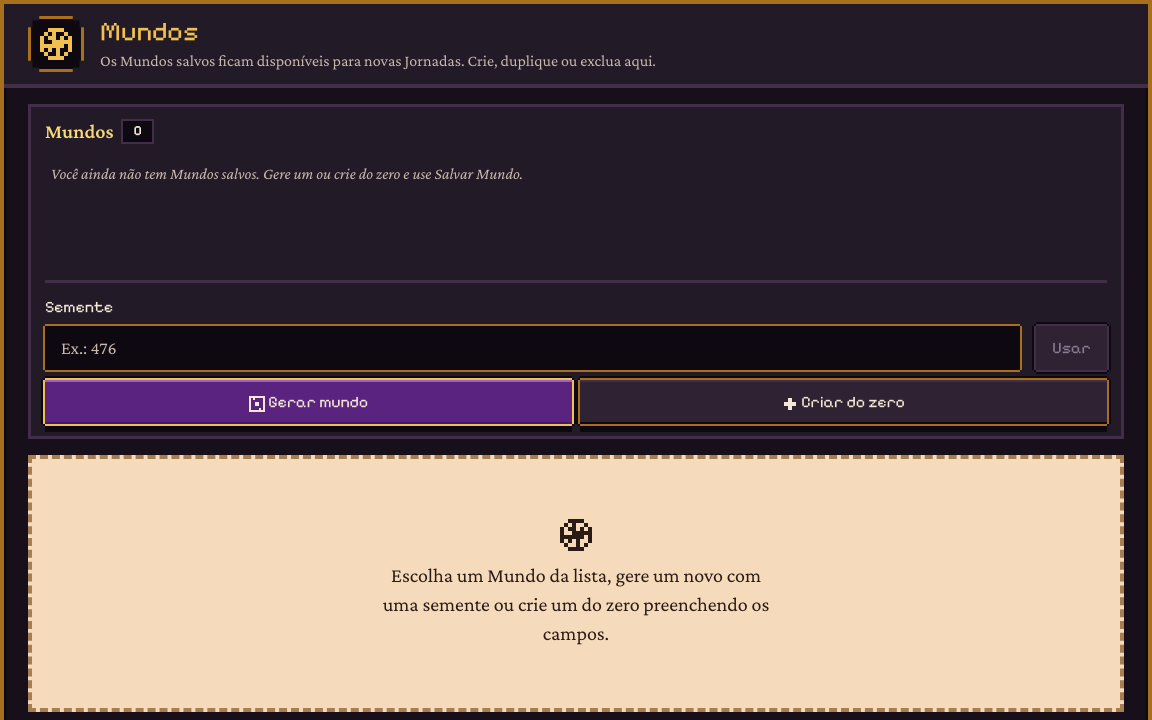
Test: Tela de Mundos (modelo provisório) › Gerar mundo e Salvar Mundo: grava com a semente e o Mundo entra na lista
The image size is (1152, 720).
Expected: the text "Você ainda não tem Mundos salvos" is shown, [51, 165, 523, 182]
What coordinates should you click on to do the following:
click the button "Gerar mundo"
I would click on:
 (308, 402)
Its box is [45, 380, 572, 424].
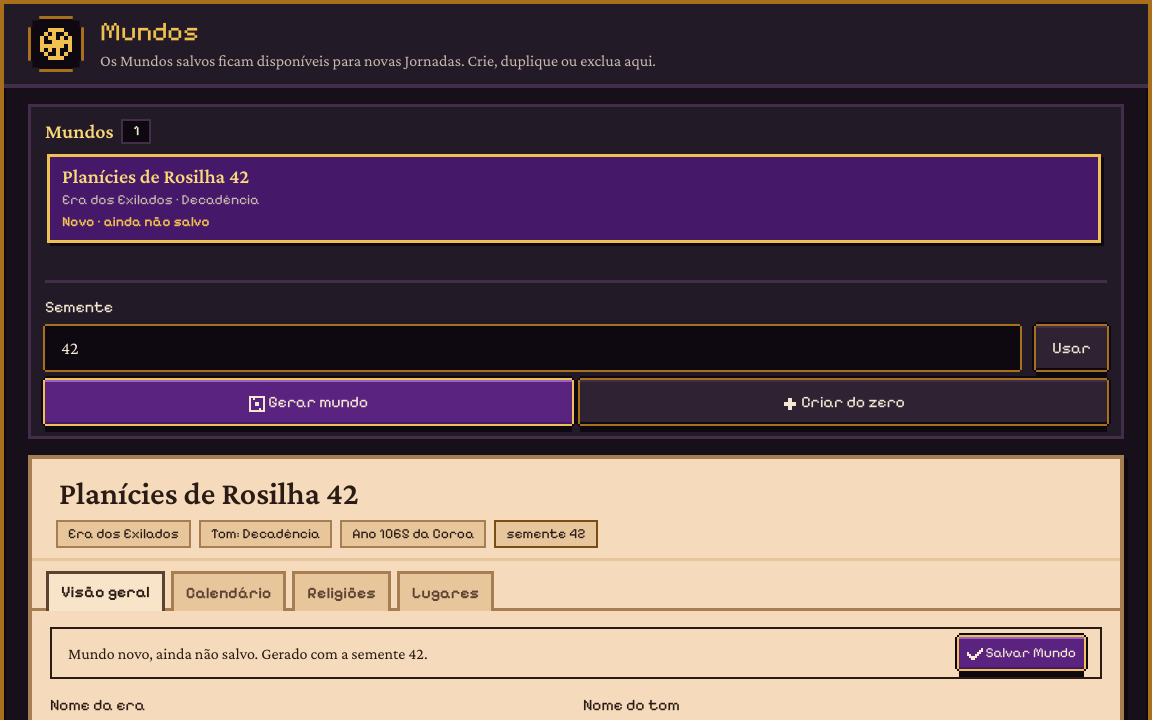
Expected: the option "Novo · ainda não salvo" is shown, [47, 154, 1101, 243]
Expected: the text "Mundo novo, ainda não salvo. Gerado com a semente 42." is shown, [68, 645, 428, 662]
What coordinates should you click on to do the following:
click the button "Salvar Mundo"
I would click on:
 (1021, 654)
Its box is [959, 638, 1084, 670].
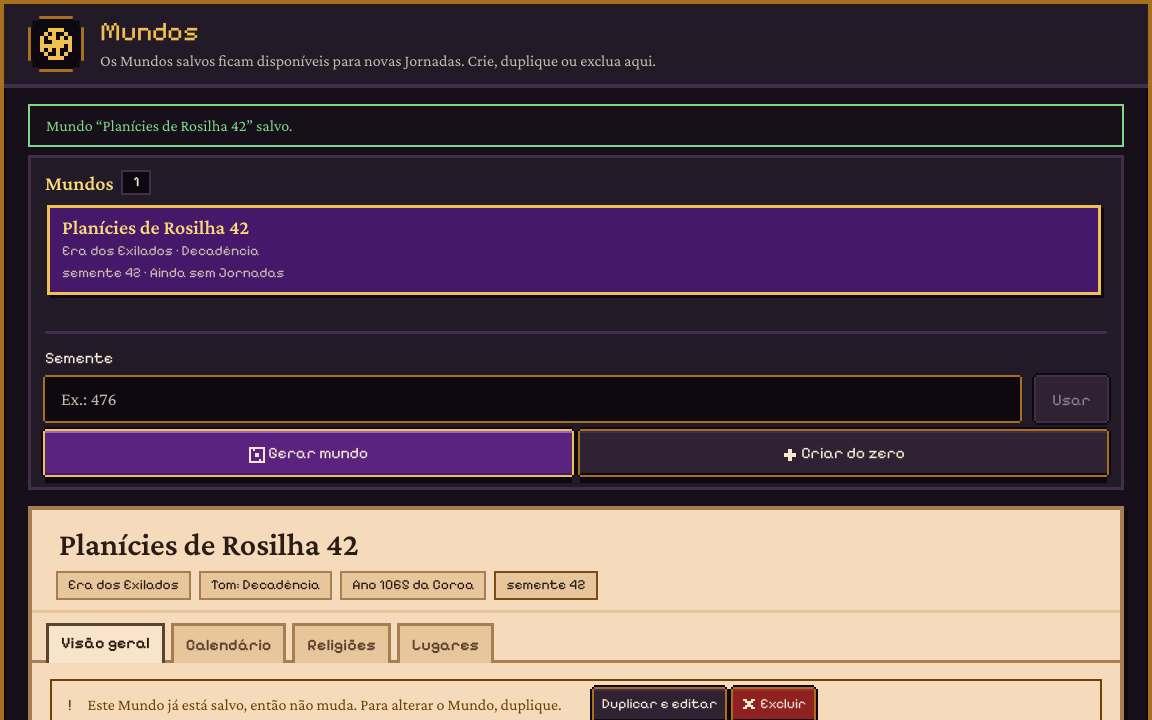
Expected: the option "Novo · ainda não salvo" is gone
